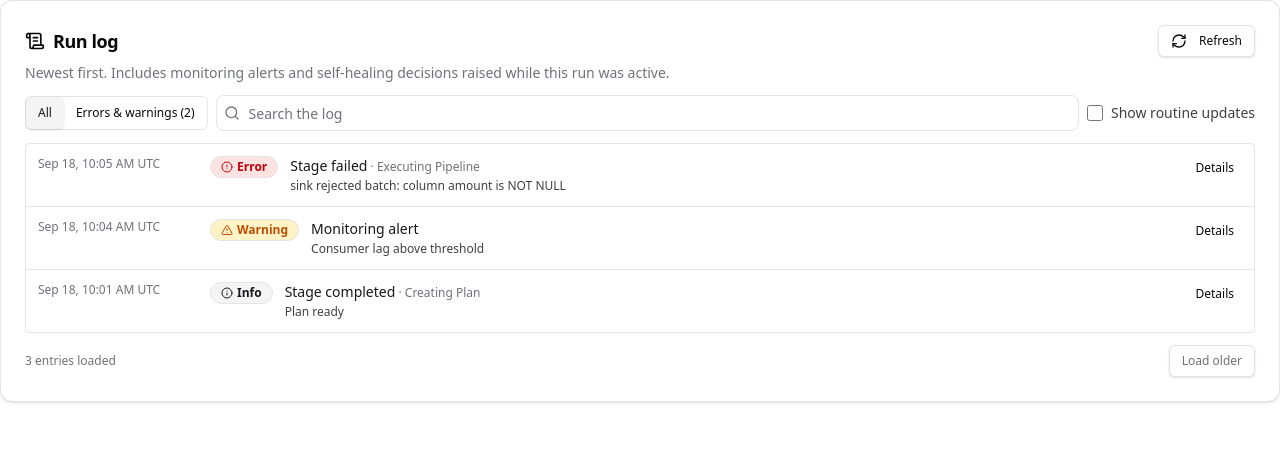
it: RunLogPanel › pages older entries with the server's cursor, verbatim
Click the button "Load older". click: (1212, 361)
box: 1169,345 -> 1255,377
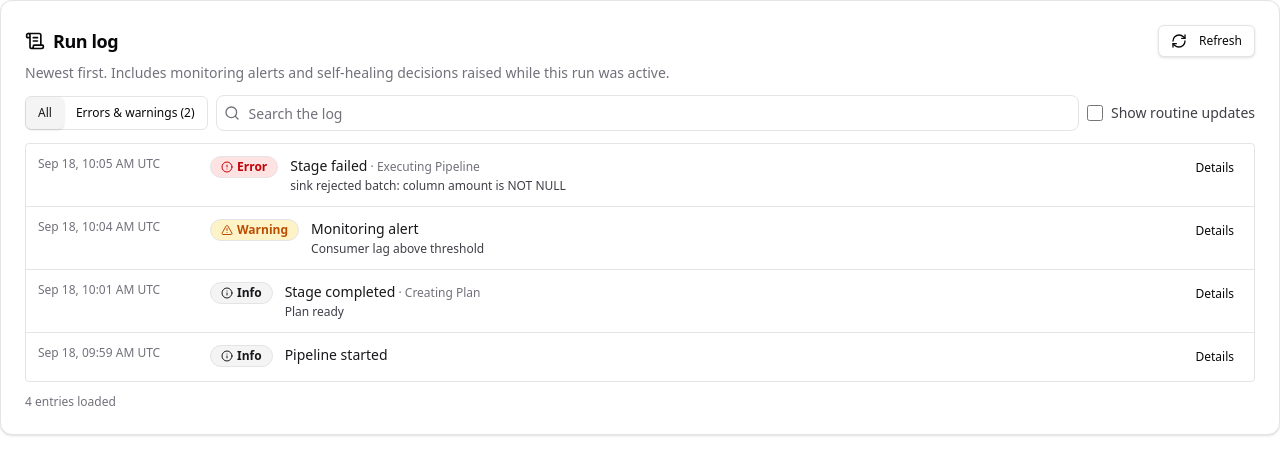
Now the text "Pipeline started" is shown, box 285,345 -> 388,364
Now the number of list items with test id "run-log-row" is 4, box 26,144 -> 1254,207; 26,207 -> 1254,270; 26,270 -> 1254,333; 38,344 -> 1242,369
Now the button "Load older" is gone
